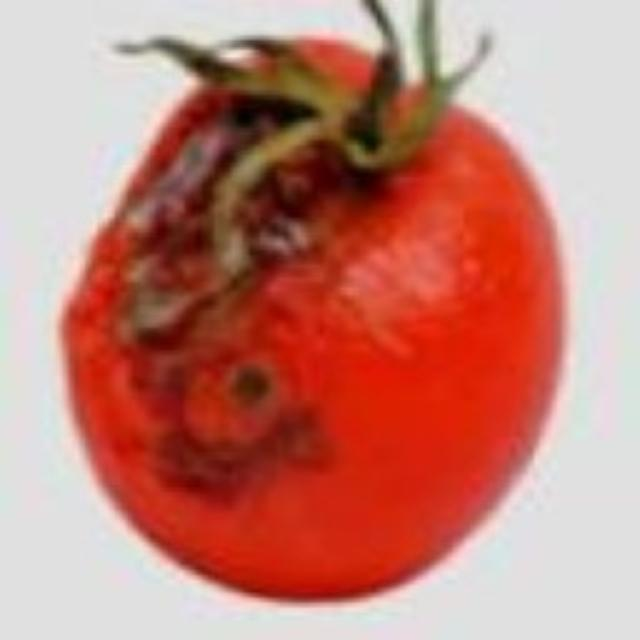defect: (59, 30, 578, 609)
